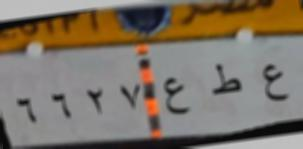2: (80, 82, 109, 118)
6: (49, 87, 76, 126), (12, 96, 44, 127)
7: (116, 75, 142, 116)
Taa: (206, 60, 245, 102)
ain: (162, 73, 194, 122), (259, 62, 294, 106)
